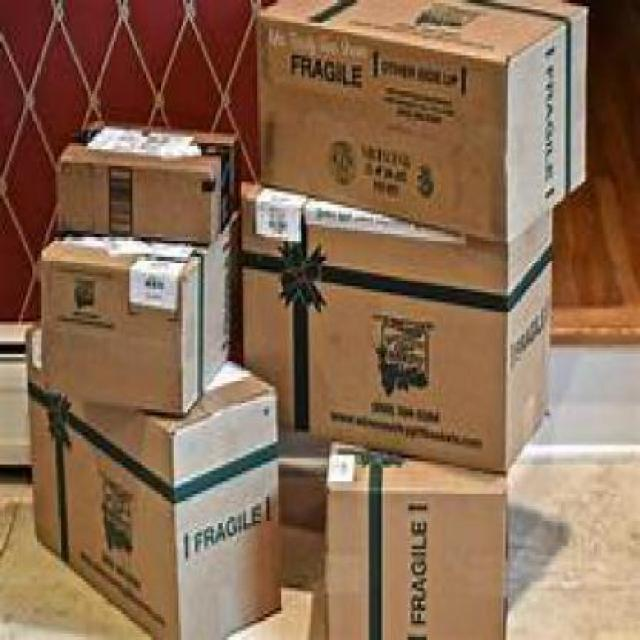box: (240, 181, 556, 476), (255, 0, 590, 243), (24, 329, 280, 640), (331, 432, 511, 640), (41, 231, 232, 416), (56, 127, 235, 243)
